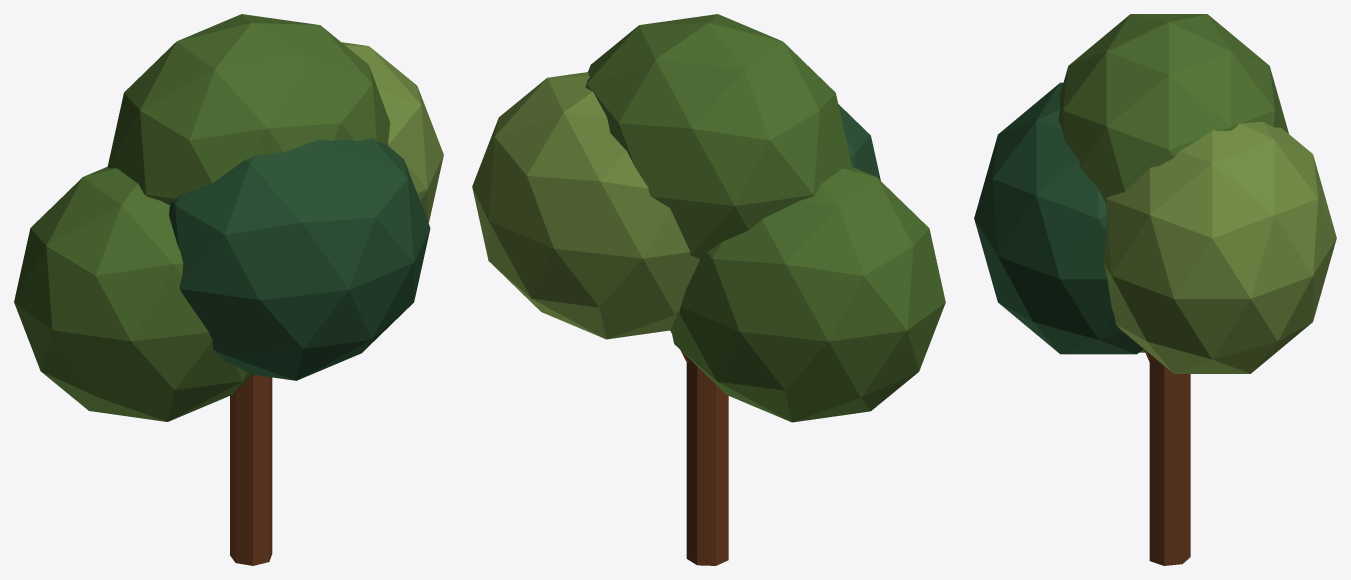
The model's file is tree.glb.
The picture shows the model from 3 angles, left to right: view 1: azimuth 30°, elevation 25°; view 2: azimuth 150°, elevation 25°; view 3: azimuth 270°, elevation 25°; orthographic projection.
Parts seen in each view (by area): view 1: Olive treeMesh; view 2: Olive treeMesh; view 3: Olive treeMesh.
Part boxes in pixels (bbox=[...]): Olive treeMesh: bbox=[14, 14, 443, 565]; Olive treeMesh: bbox=[472, 14, 945, 565]; Olive treeMesh: bbox=[974, 14, 1336, 565].
Size of the model in its own units: 4.41 by 5.45 by 3.35.
